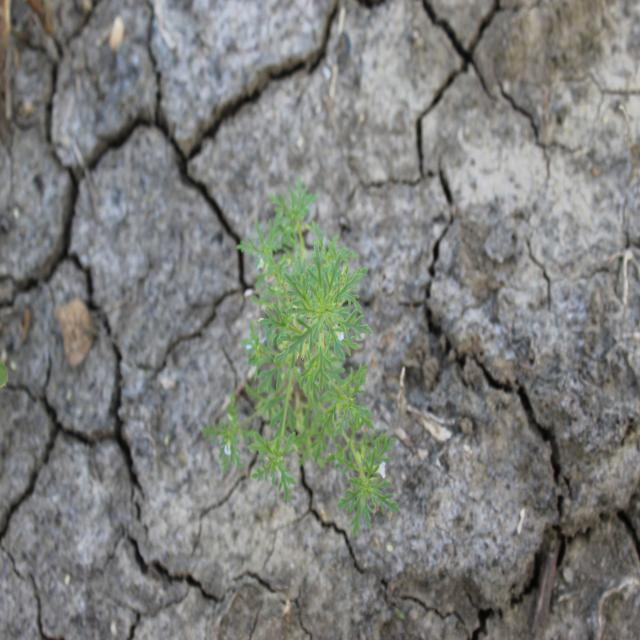Ragweed: (198, 175, 402, 541)
